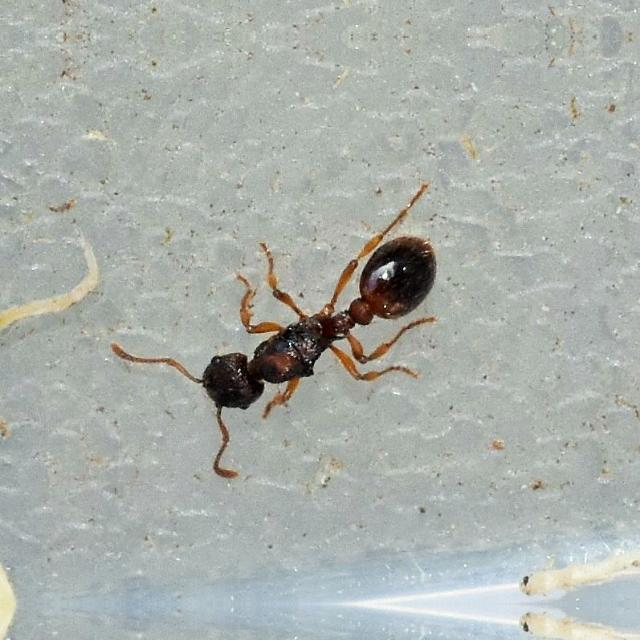Myrmica: (133, 192, 475, 454)
